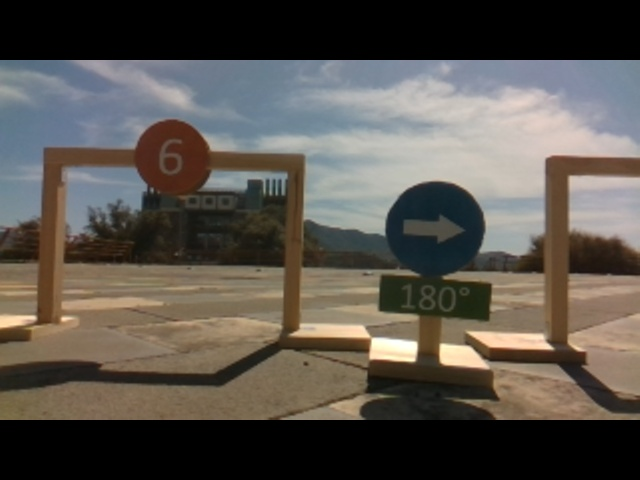180_degree: (380, 275, 495, 321)
arrow_right: (382, 175, 488, 275)
checkpoint_foot: (464, 327, 590, 362), (280, 319, 375, 352), (1, 306, 78, 345)
checkpoint_side: (34, 139, 71, 325), (540, 153, 575, 345), (281, 148, 308, 333)
checkpoint_signal: (37, 143, 310, 177)
six: (129, 114, 216, 194)
